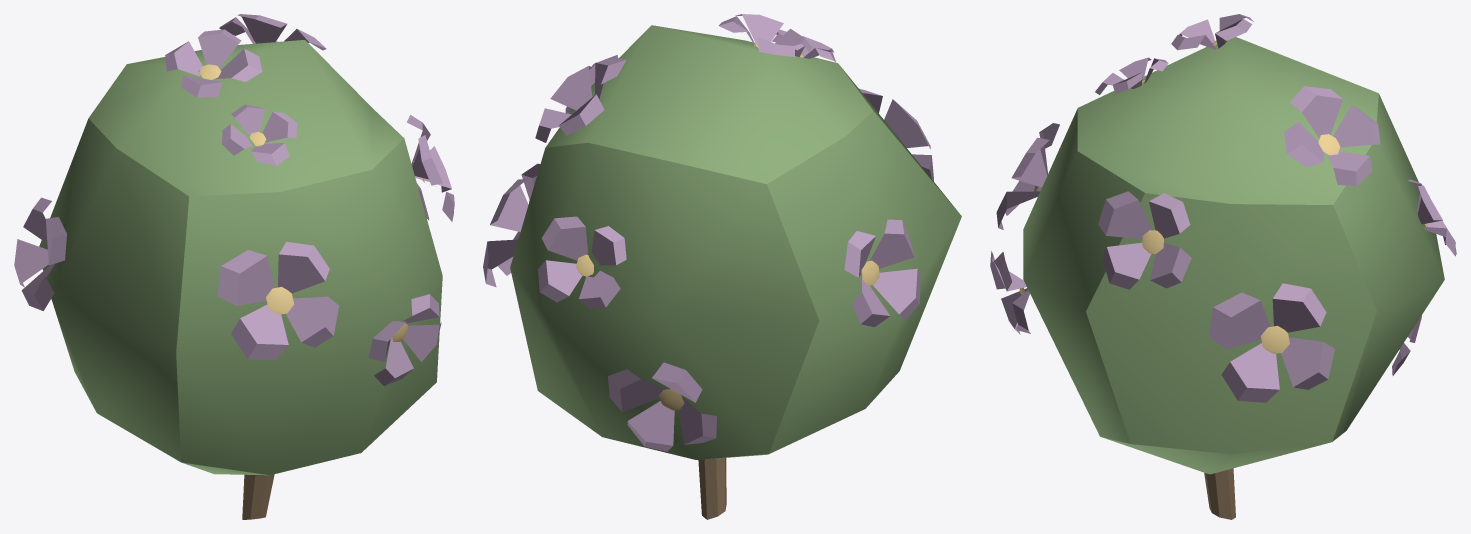
File: purpleFlower.fbx
3 views of the same model, side by side, from view 1: azimuth 30°, elevation 25°; view 2: azimuth 150°, elevation 25°; view 3: azimuth 270°, elevation 25° (orthographic). The views are drawn at different scales.
Visible parts, largest first — view 1: bush01, flowerPetals01 (×7), shrubStem01, flowerPollen01; view 2: bush01, flowerPetals01 (×8), shrubStem01; view 3: bush01, flowerPetals01 (×8), shrubStem01, flowerPollen01.
Boxes of the visible parts, <box> form: bush01: <box>39,40,442,475</box>; flowerPetals01 (×7): <box>14,14,454,385</box>; shrubStem01: <box>242,474,274,519</box>; flowerPollen01: <box>266,287,294,314</box>; bush01: <box>510,25,961,459</box>; flowerPetals01 (×8): <box>483,14,933,451</box>; shrubStem01: <box>698,458,726,519</box>; bush01: <box>1023,37,1444,474</box>; flowerPetals01 (×8): <box>990,14,1456,402</box>; shrubStem01: <box>1204,468,1235,519</box>; flowerPollen01: <box>1260,325,1289,353</box>.
Bounding box in the file's own units: 0.6134 × 0.7357 × 0.6482.
